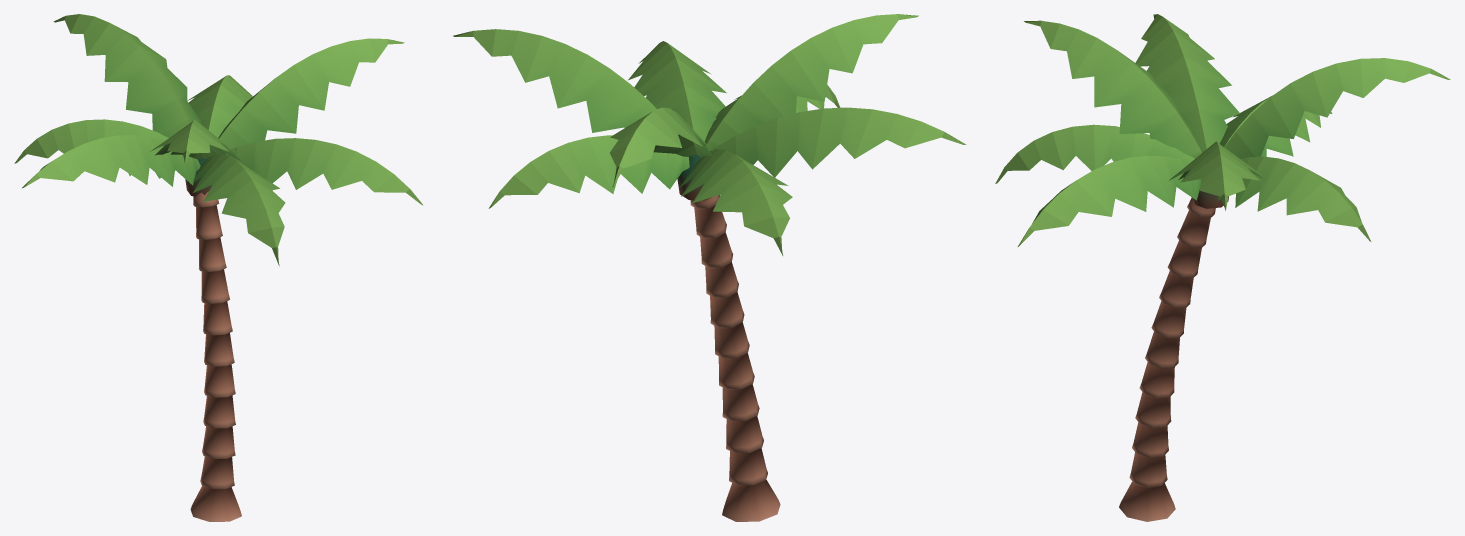
The model's file is palm_young.glb.
The picture shows the model from 3 angles, left to right: view 1: azimuth 30°, elevation 25°; view 2: azimuth 150°, elevation 25°; view 3: azimuth 270°, elevation 25°; orthographic projection. The views are drawn at different scales.
Visible parts, largest first — view 1: palm_young; view 2: palm_young; view 3: palm_young.
Boxes of the visible parts, left/top/right/bottom form: palm_young: left=14, top=14, right=423, bottom=521; palm_young: left=453, top=14, right=966, bottom=521; palm_young: left=995, top=14, right=1450, bottom=521.
Bounding box in the file's own units: 5.82 × 5.64 × 5.17.
